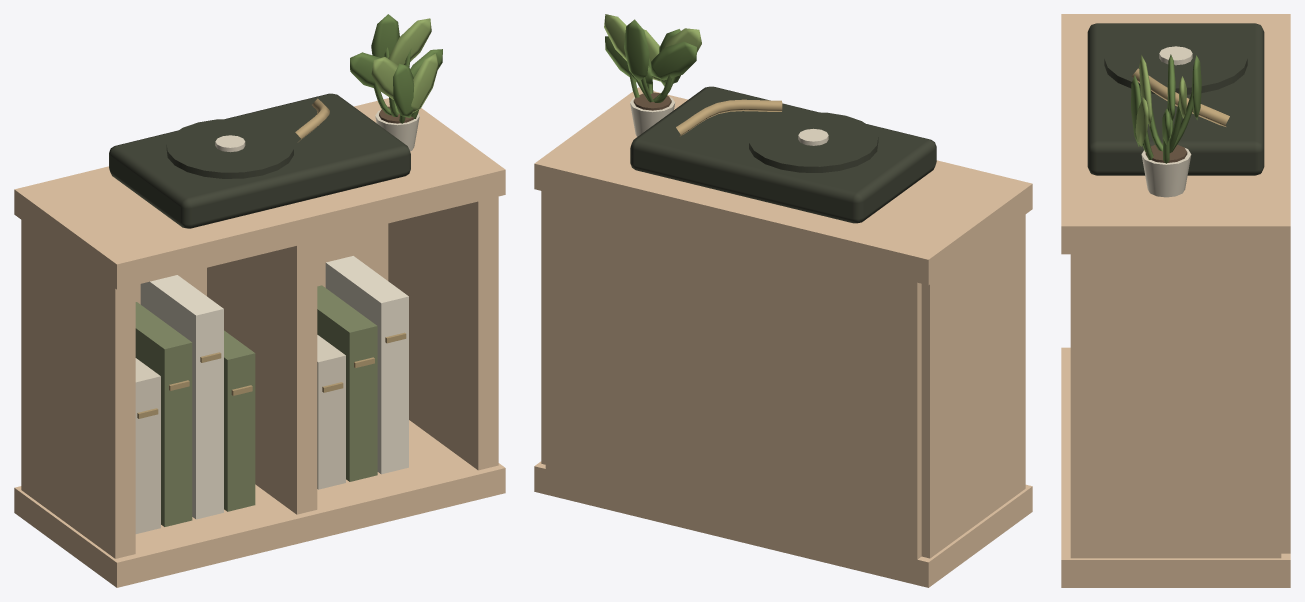
Rendered from living_ref_record_cabinet.glb.
The picture shows the model from 3 angles, left to right: view 1: azimuth 30°, elevation 25°; view 2: azimuth 150°, elevation 25°; view 3: azimuth 270°, elevation 25°; orthographic projection. The views are drawn at different scales.
Bounding box in the file's own units: 1.05 × 1.16 × 0.48.
